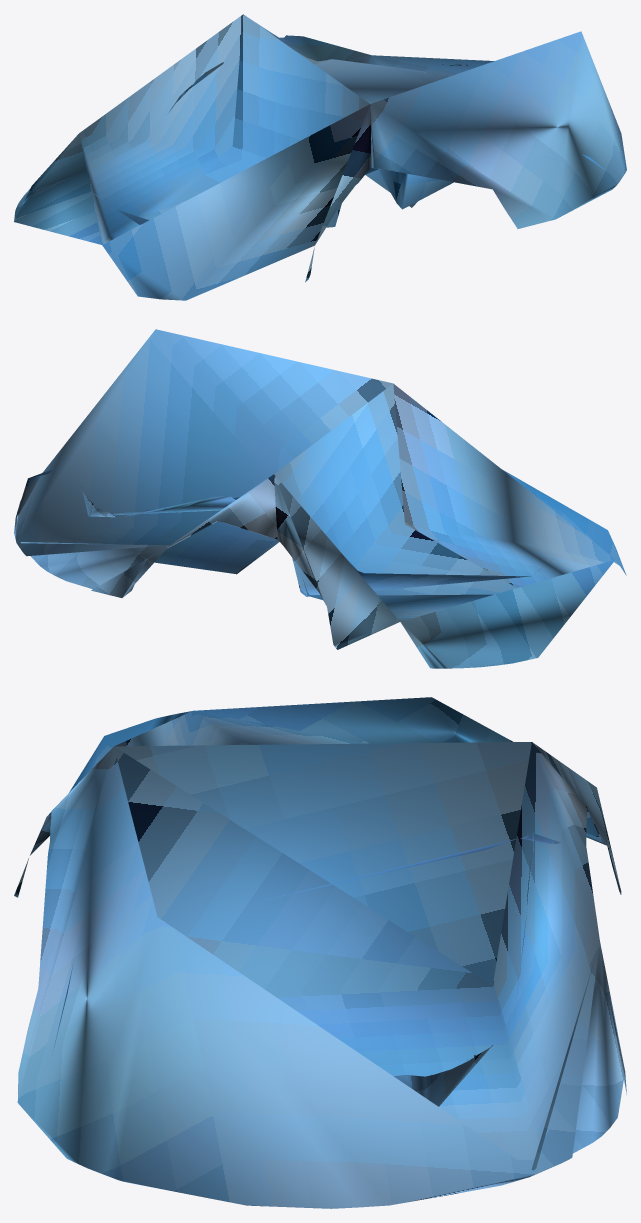
The model's file is Grreat_Choice_Dog_Double_Dish_Plastic_Blue-low.glb.
3 views of the same model, one above another, from view 1: azimuth 30°, elevation 25°; view 2: azimuth 150°, elevation 25°; view 3: azimuth 270°, elevation 25° (orthographic). The views are drawn at different scales.
Visible parts, largest first — view 1: Grreat_Choice_Dog_Double_Dish_Plastic_Blue; view 2: Grreat_Choice_Dog_Double_Dish_Plastic_Blue; view 3: Grreat_Choice_Dog_Double_Dish_Plastic_Blue.
Boxes of the visible parts, x1,y1,x2,y2 form: Grreat_Choice_Dog_Double_Dish_Plastic_Blue: (14,14,626,300); Grreat_Choice_Dog_Double_Dish_Plastic_Blue: (14,329,626,668); Grreat_Choice_Dog_Double_Dish_Plastic_Blue: (14,697,626,1208).
Size of the model in its own units: 0.3261 by 0.0828 by 0.1871.
1 material, 1 textured.
